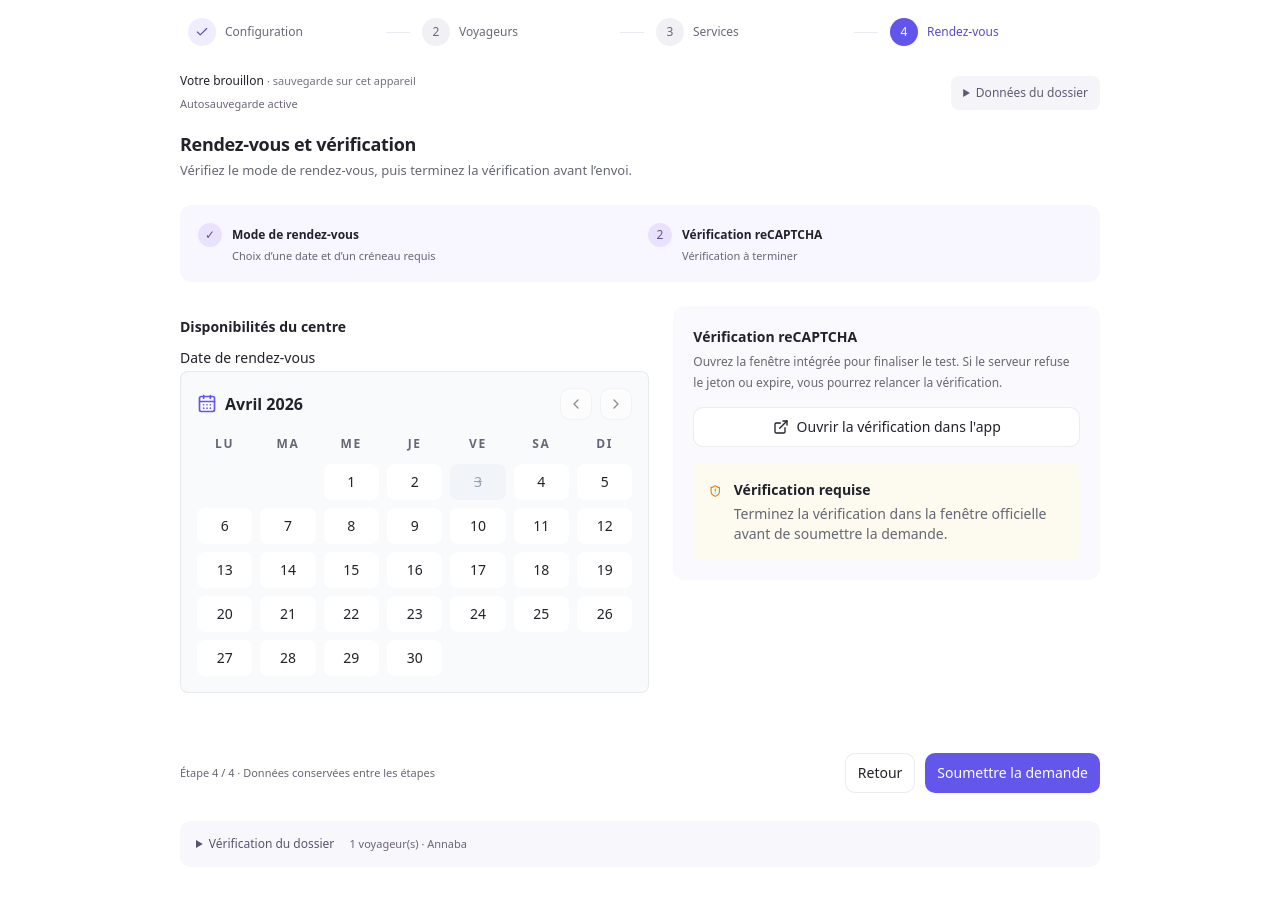
BookingShell flow › shows the hour picker only after a valid day selection in appointment mode
The image size is (1280, 912).
Expected: the text "Date de rendez-vous" is shown, [180,351,315,365]
Click the button "6".
click(225, 526)  # box [197,508,252,544]
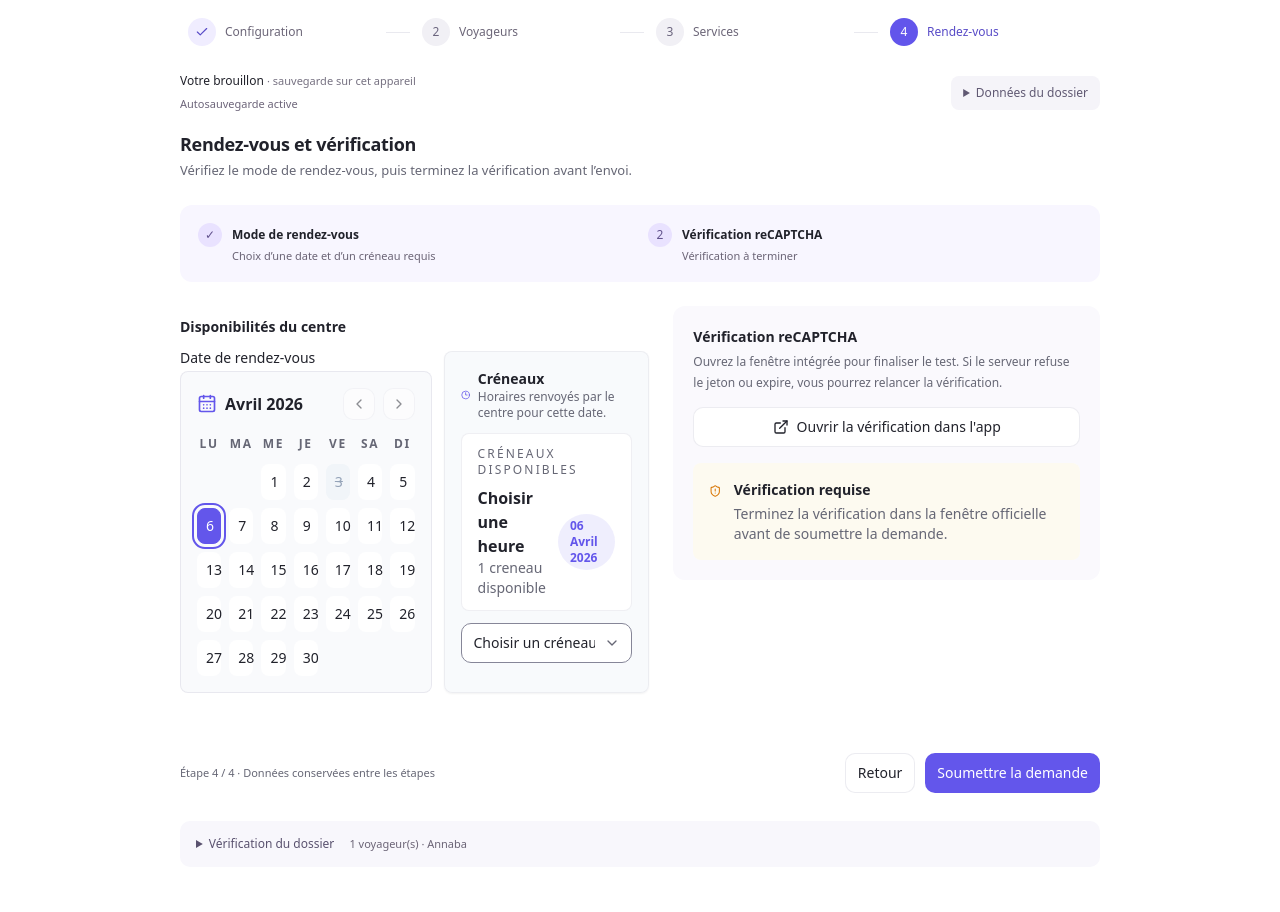
Expected: the dropdown named "Heure de rendez-vous" is shown, [460,623,632,663]
